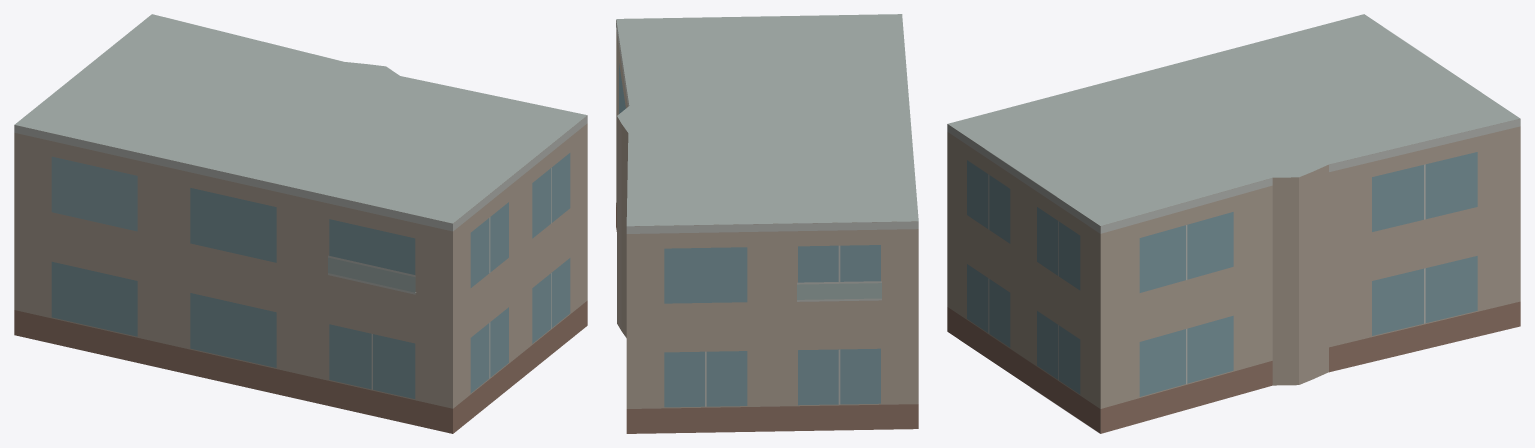
The model's file is survey-upis-33014492.glb.
3 renders of one model, left to right at view 1: azimuth 30°, elevation 25°; view 2: azimuth 150°, elevation 25°; view 3: azimuth 270°, elevation 25°, orthographic.
Visible parts, largest first — view 1: survey-upis-33014492.tmp; view 2: survey-upis-33014492.tmp; view 3: survey-upis-33014492.tmp.
Part boxes in pixels (bbox=[...]): survey-upis-33014492.tmp: bbox=[14, 14, 587, 433]; survey-upis-33014492.tmp: bbox=[616, 14, 918, 433]; survey-upis-33014492.tmp: bbox=[947, 14, 1520, 433].
Size of the model in its own units: 14.24 by 6.5 by 16.26.
